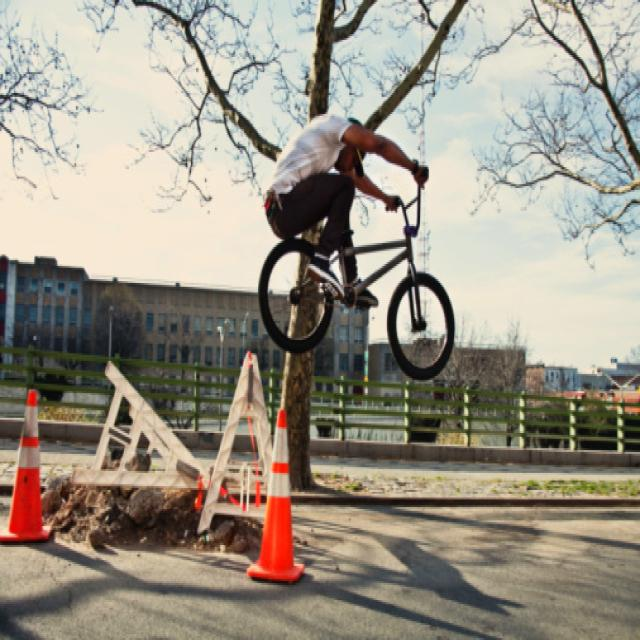cone: (250, 403, 308, 583), (2, 382, 56, 543)
